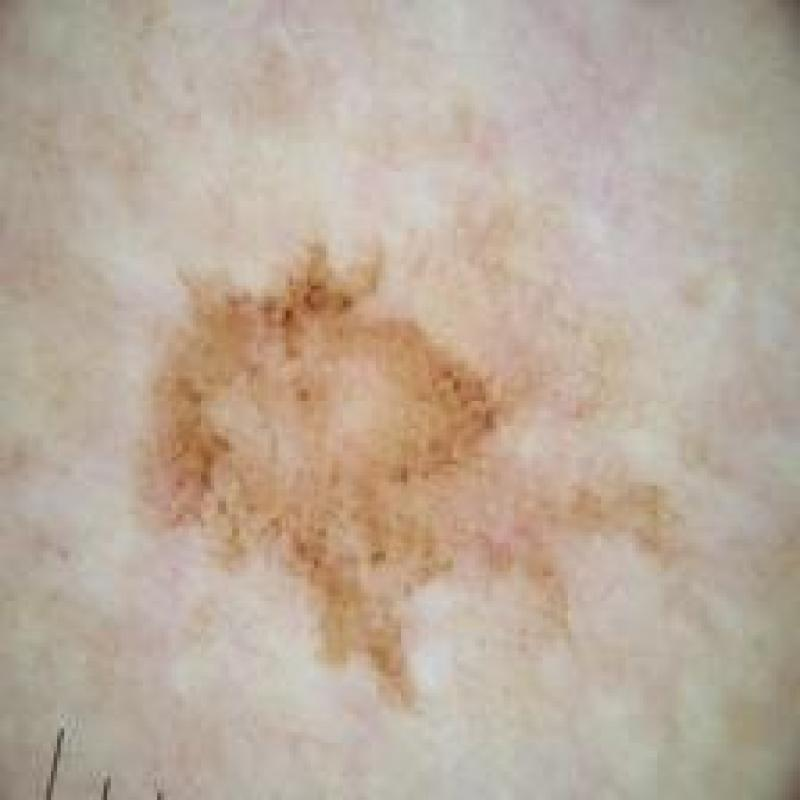malignant: (108, 205, 688, 719)
